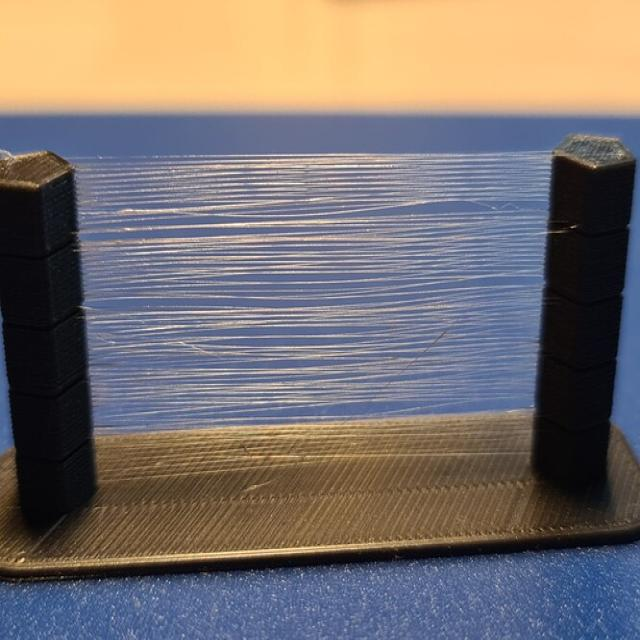Stringing: (71, 151, 553, 481)
